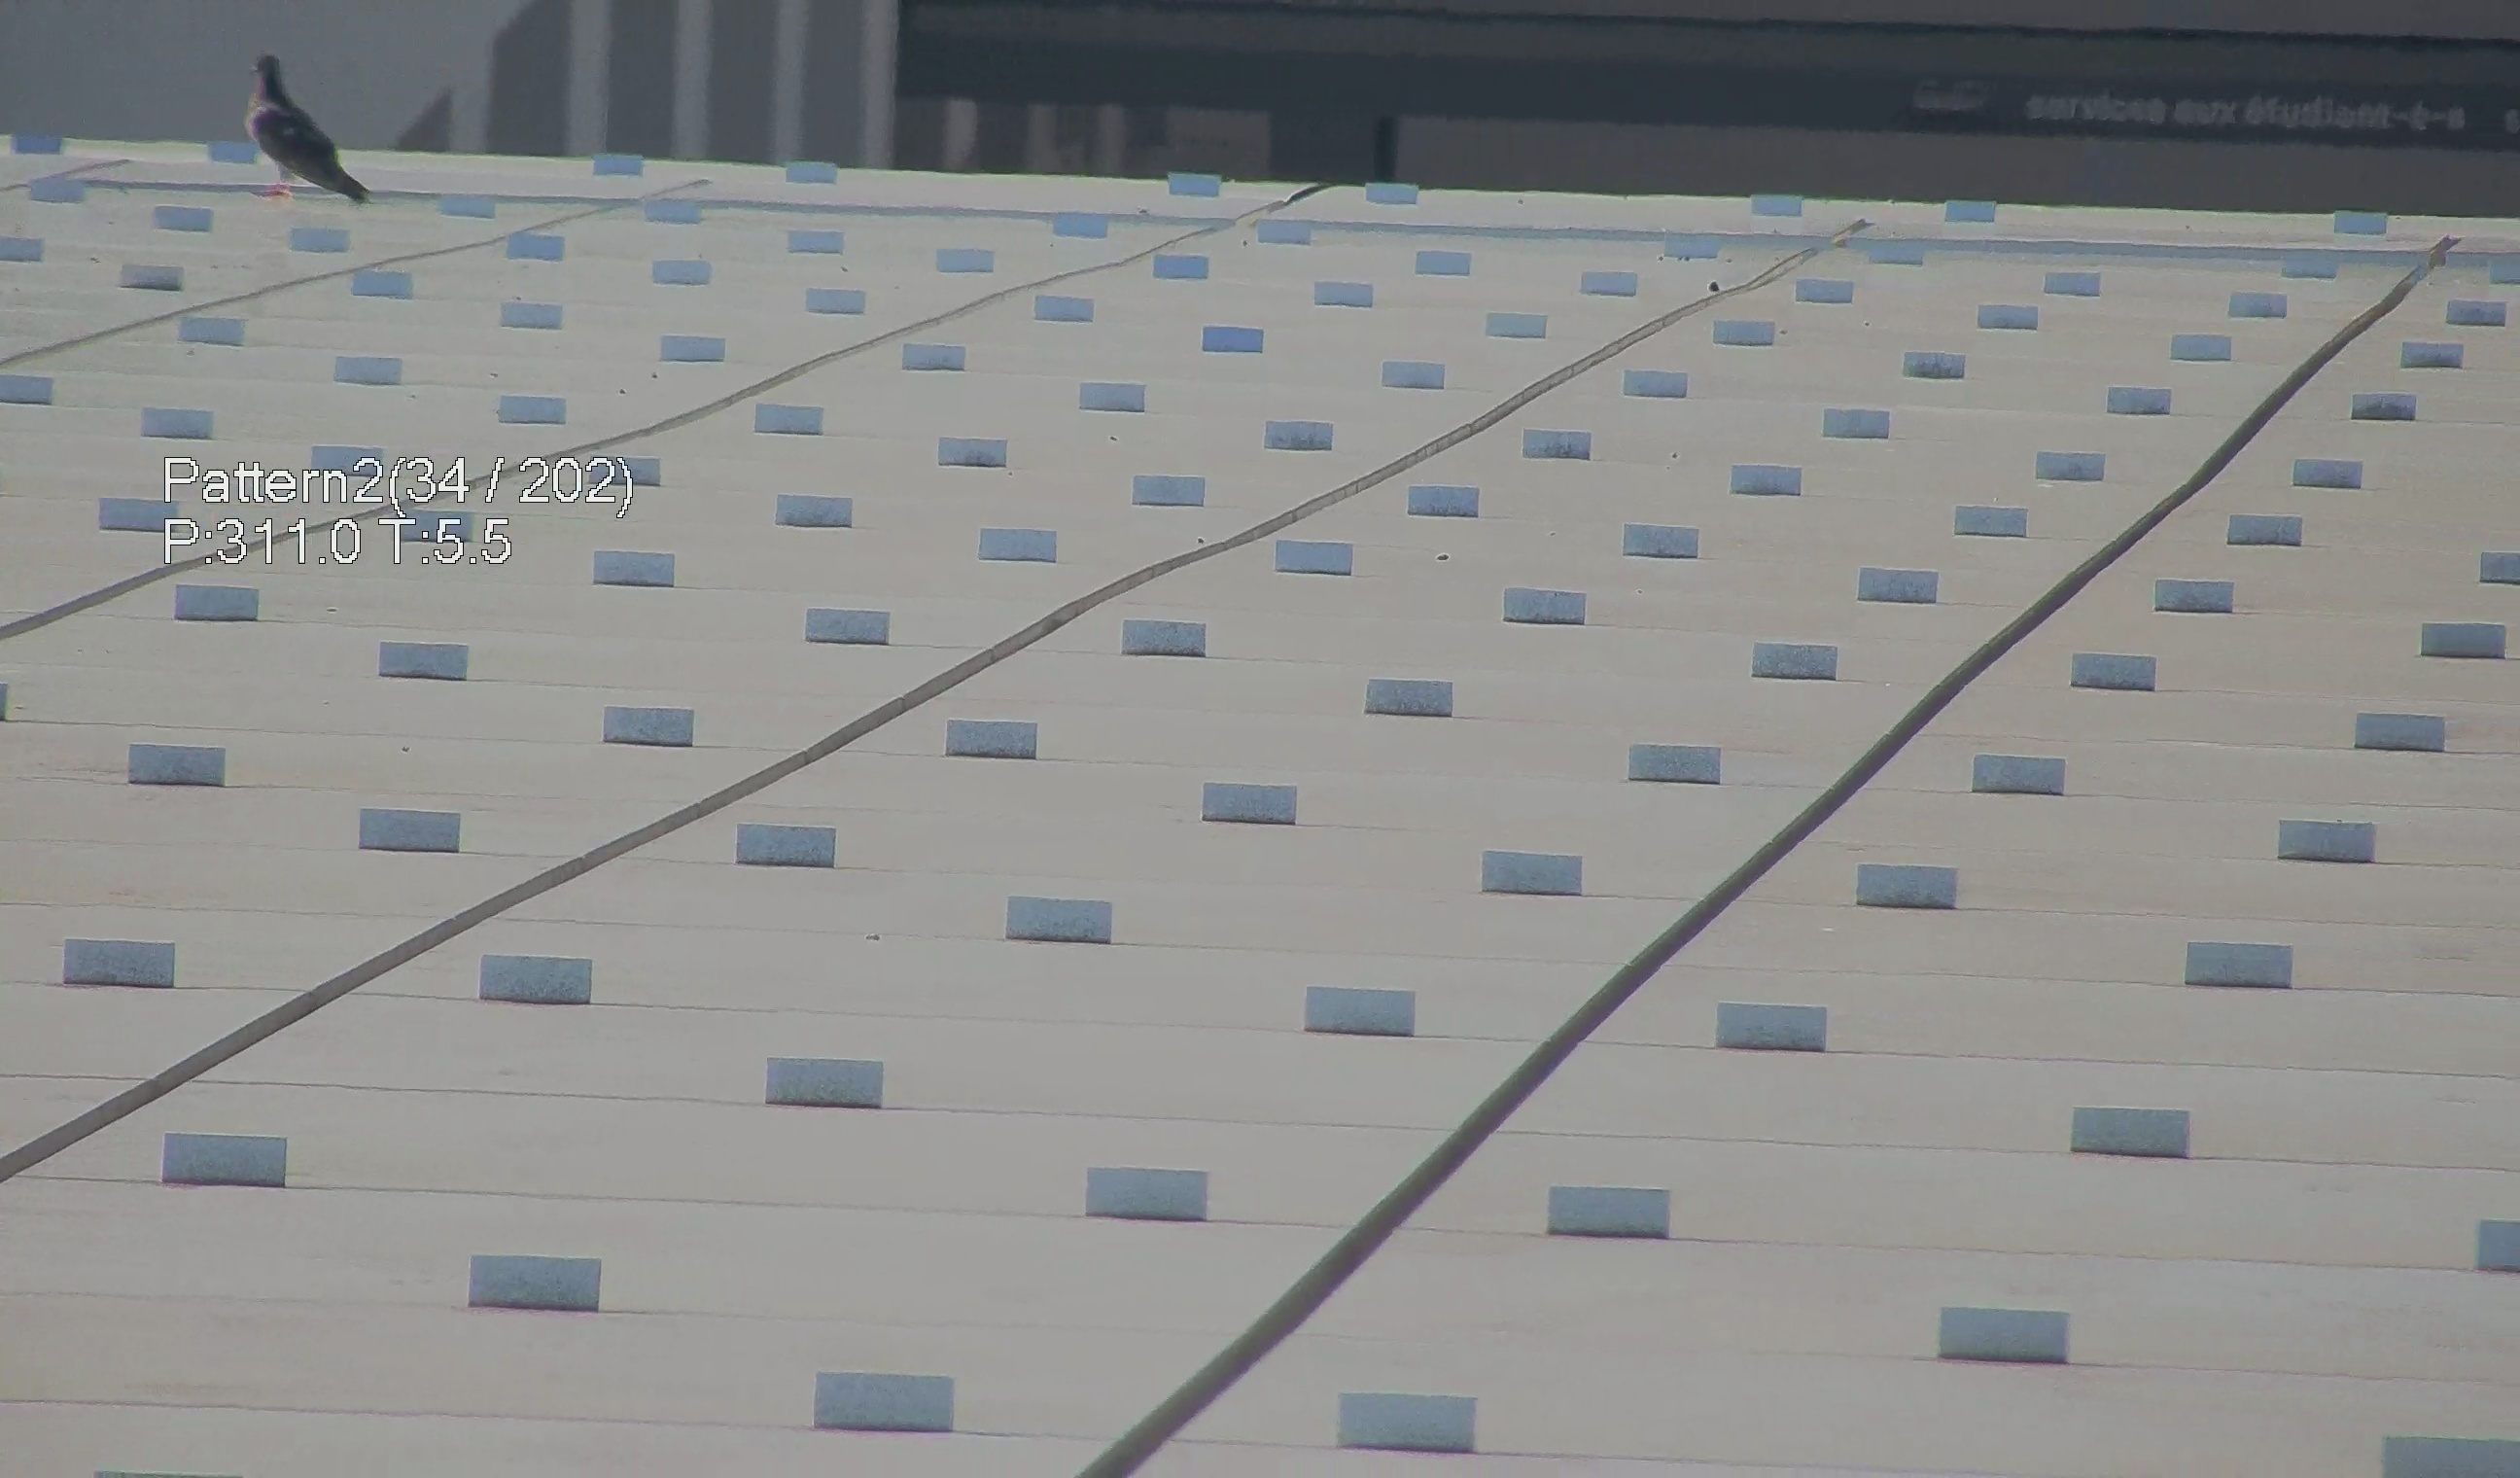Pigeon: (229, 39, 371, 206)
